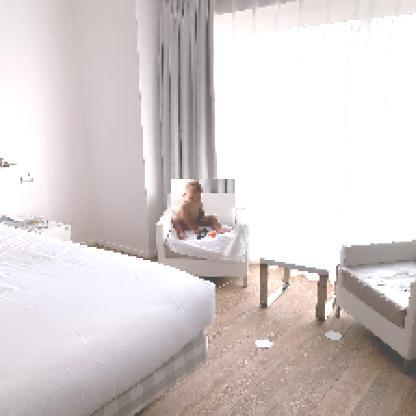child: (172, 180, 237, 242)
